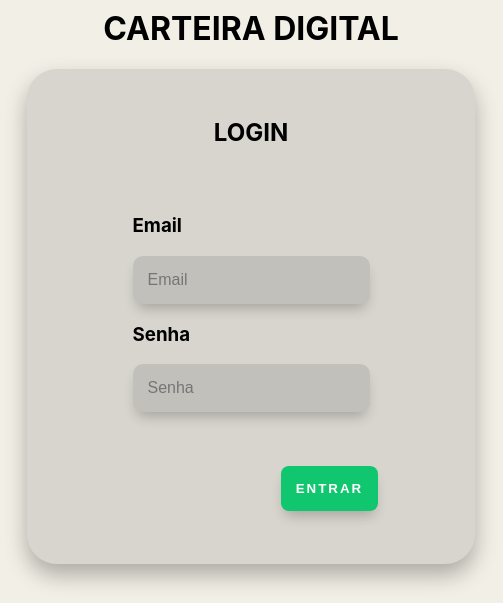
Scenario: Login › determinado e-mail, quando vazio, mostra a mensagem de erro necessária
This screenshot has width=503, height=603.
Type "anyValue" into the field with test id "email" at x=251, y=280, box [132,256,370,304]
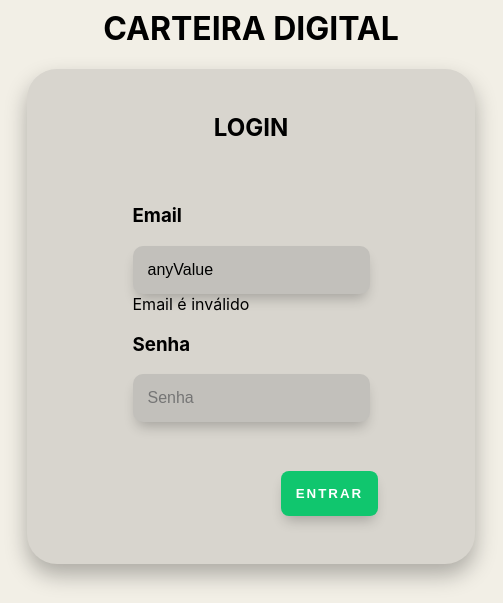
Clear the field with test id "email" at x=251, y=270, box [132,246,370,294]
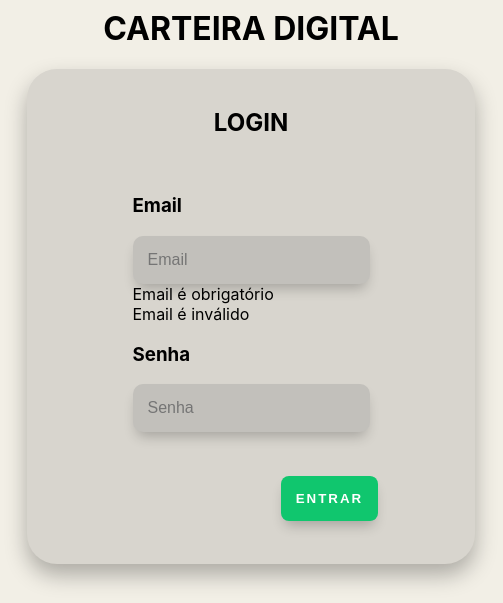
Expected: the text "Email é obrigatório" is shown, [132,284,274,304]
